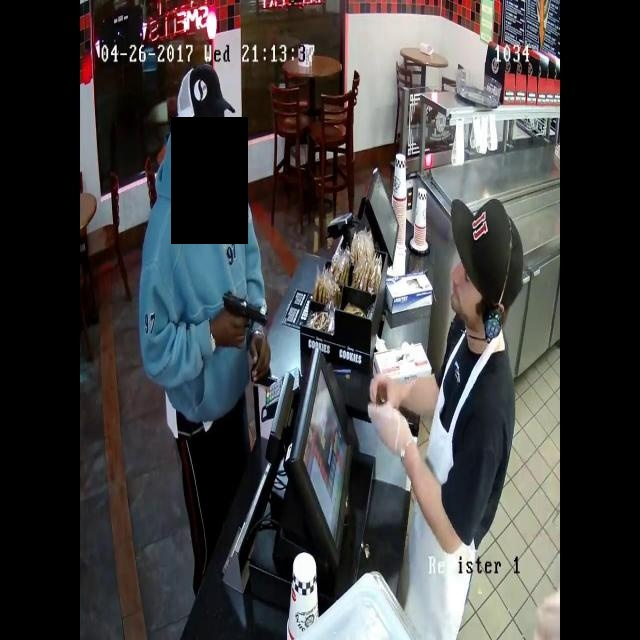gun: (210, 270, 280, 357)
